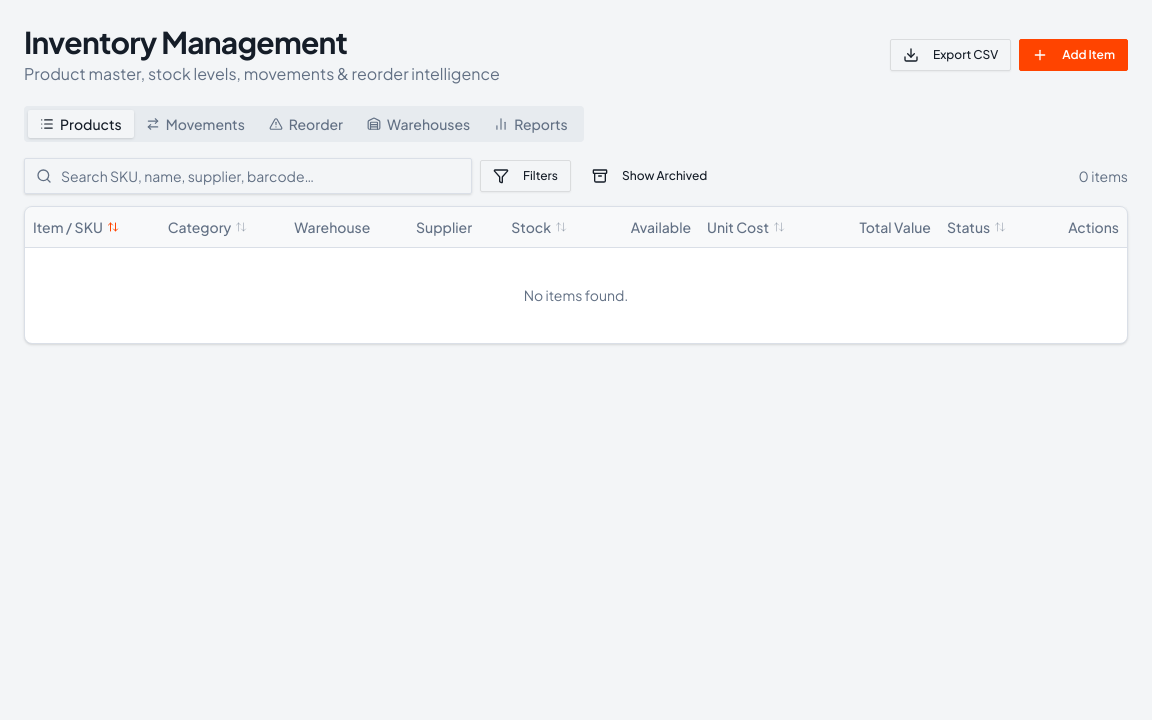
Test: Inventory page – Add Item modal › submit button is disabled when the dialog first opens
Click the button "Add Item" at [1074, 55], box [1019,39,1128,71]
(page scrolled)
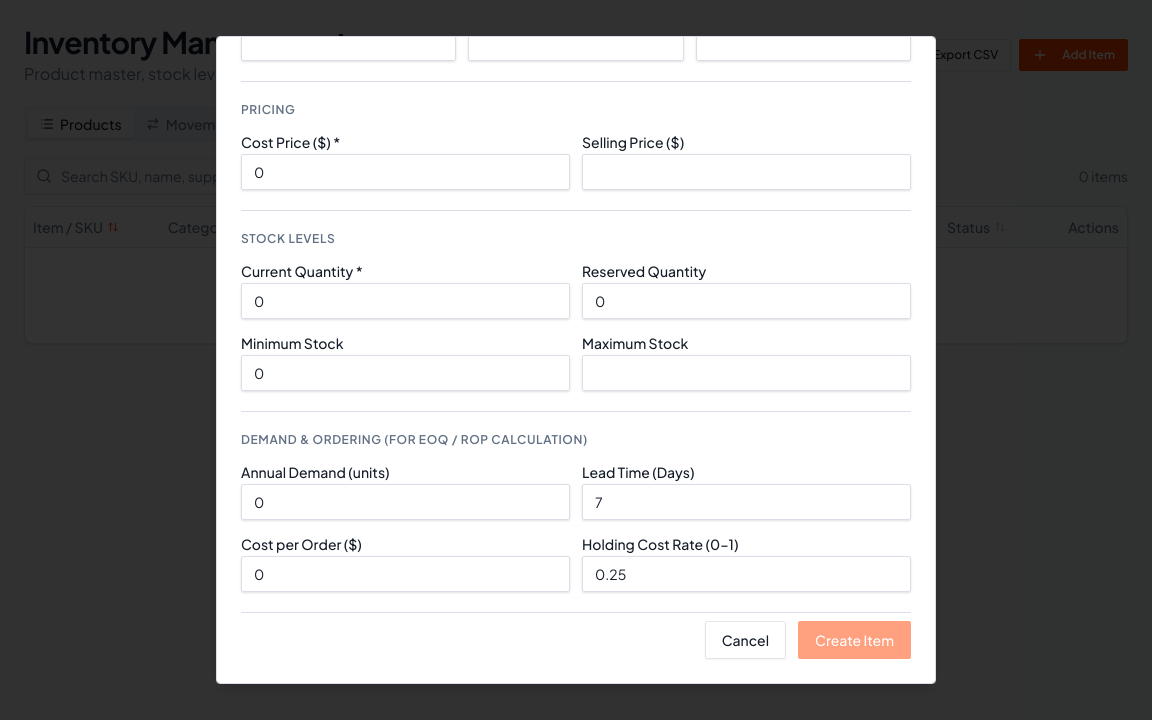
Expected: the button "Create Item" is disabled, [798,621,911,659]
